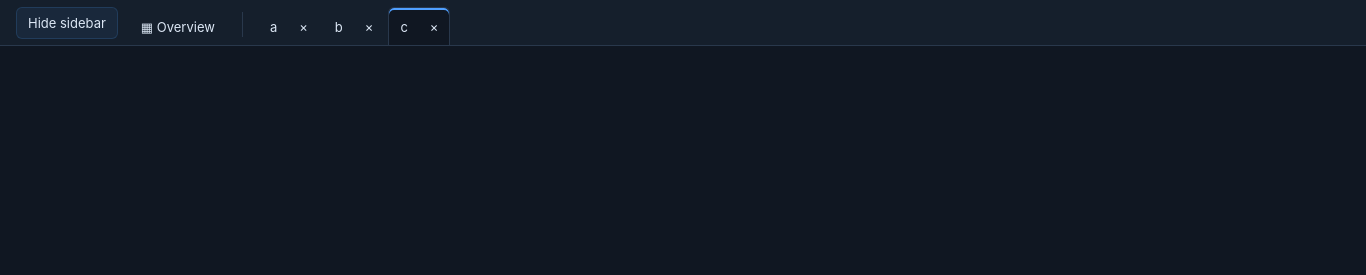
Test: closes all unpinned tabs while preserving pinned tabs, Overview and drafts
Right-click the element "b" at (354, 26), box 323,7 -> 385,45
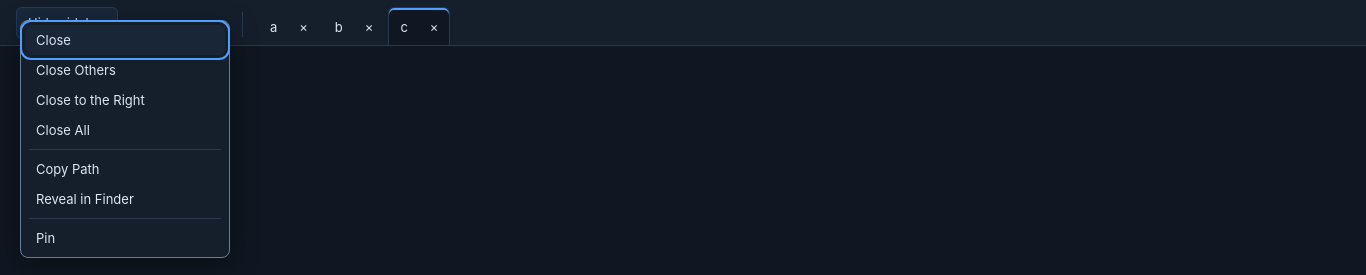
Click the menu item "Pin" at (125, 238), box 25,223 -> 225,253
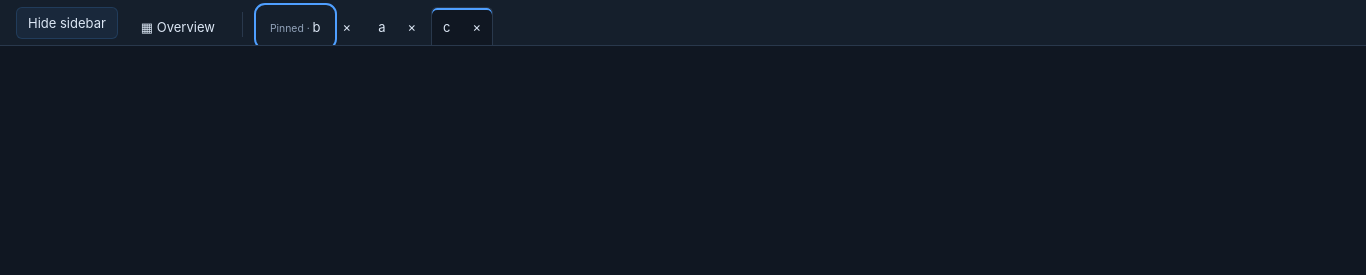
Right-click the element "a" at (397, 26), box 366,7 -> 428,45
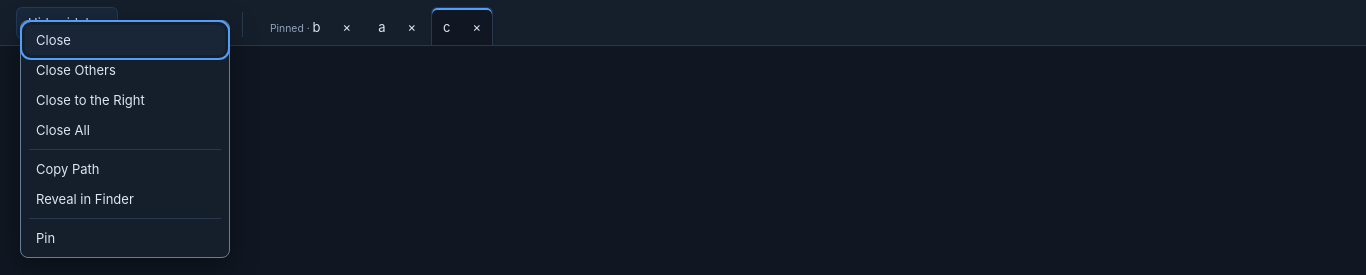
Click the menu item "Close All" at (125, 130), box 25,115 -> 225,145
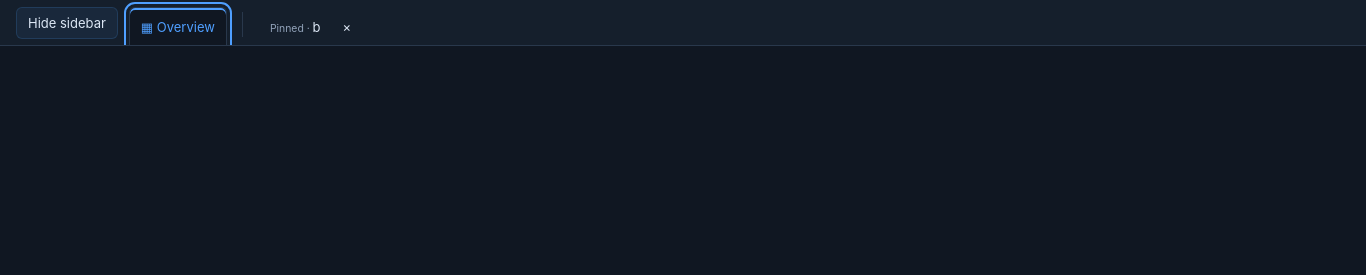
Right-click the element "b" at (311, 26), box 258,7 -> 363,45
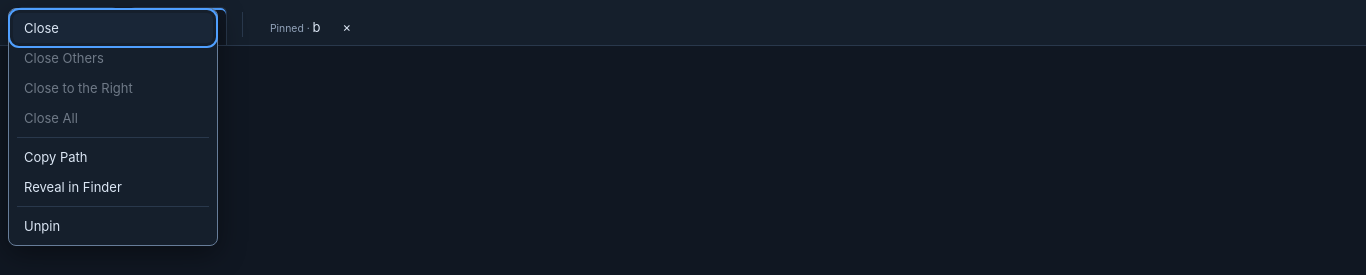
Now the menu item "Close All" is disabled, box 13,103 -> 213,133
